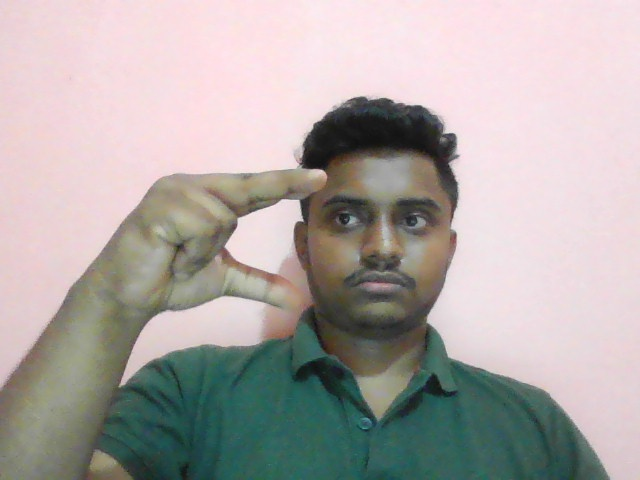No: (127, 167, 329, 312)
